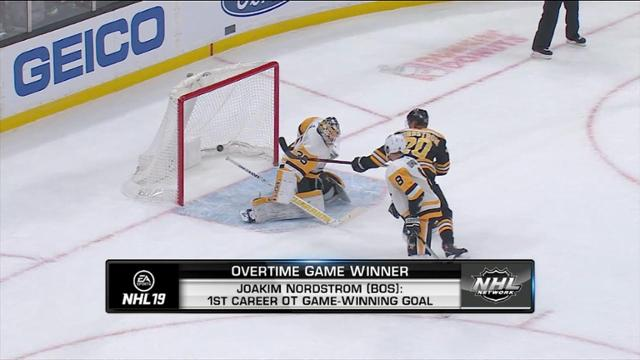geico: (12, 7, 173, 100)
